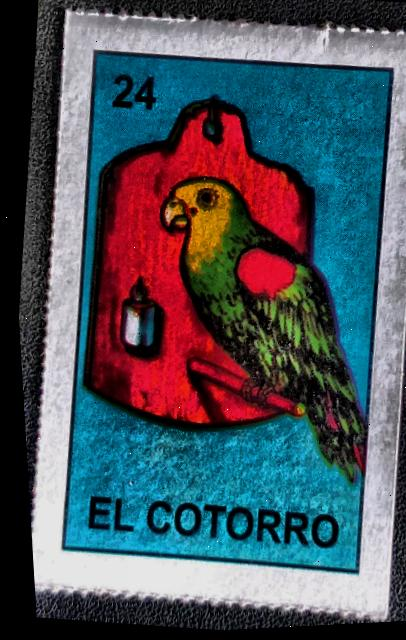El Cotorro: (10, 14, 406, 621)
